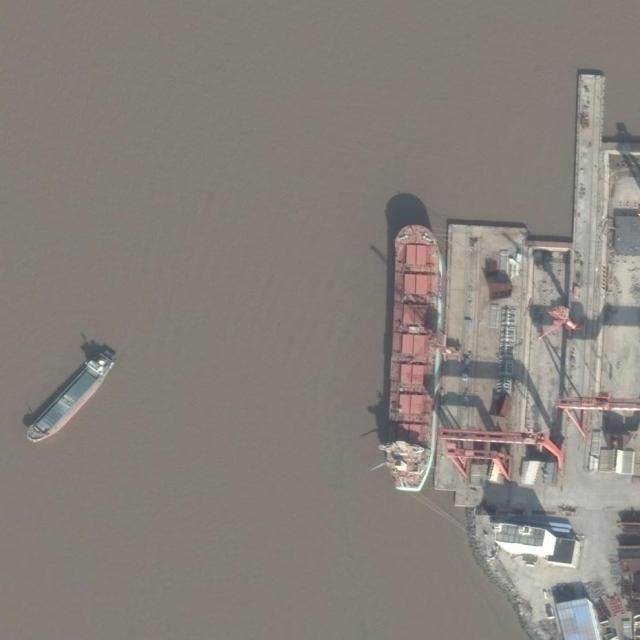Cargo: (383, 222, 447, 492), (22, 342, 124, 451)
